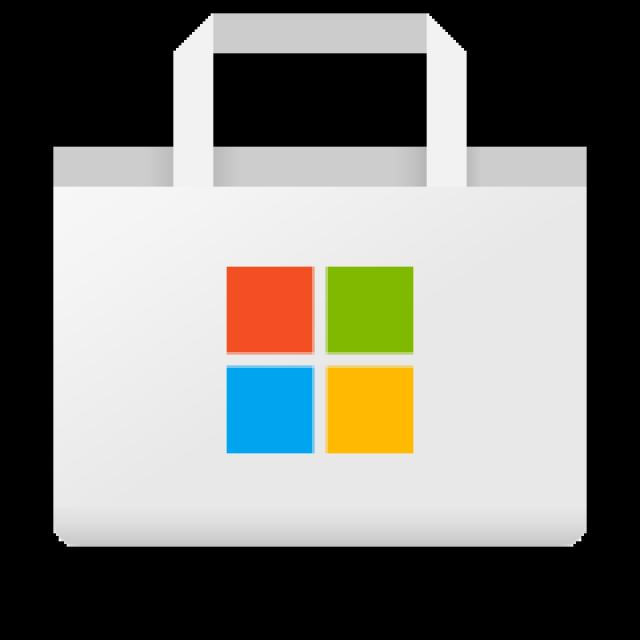microsoft: (226, 265, 415, 454)
